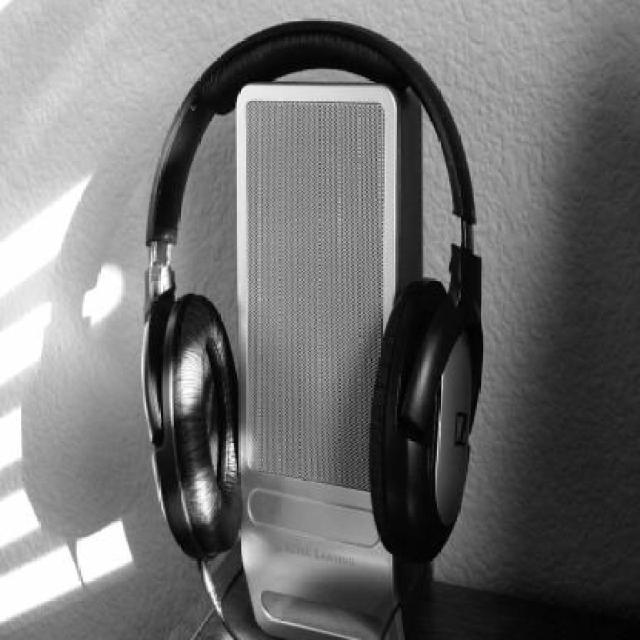earphone: (118, 6, 494, 576)
